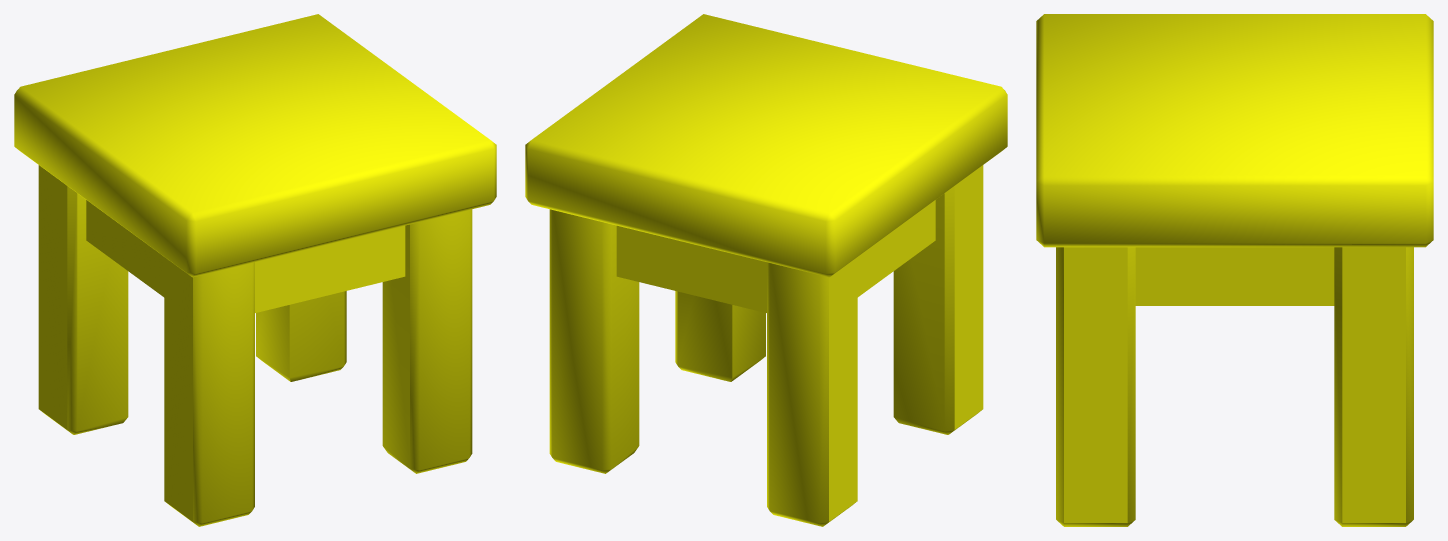
File: kaykit-furniture-table-small.glb
3 views of the same model, side by side, from view 1: azimuth 30°, elevation 25°; view 2: azimuth 150°, elevation 25°; view 3: azimuth 270°, elevation 25° (orthographic). The views are drawn at different scales.
Parts seen in each view (by area): view 1: table_small; view 2: table_small; view 3: table_small.
Boxes of the visible parts, box(x1,y1,x2,y2) form: table_small: box(14, 14, 496, 526); table_small: box(525, 14, 1007, 526); table_small: box(1036, 14, 1433, 526).
Size of the model in its own units: 1 by 1 by 1.
